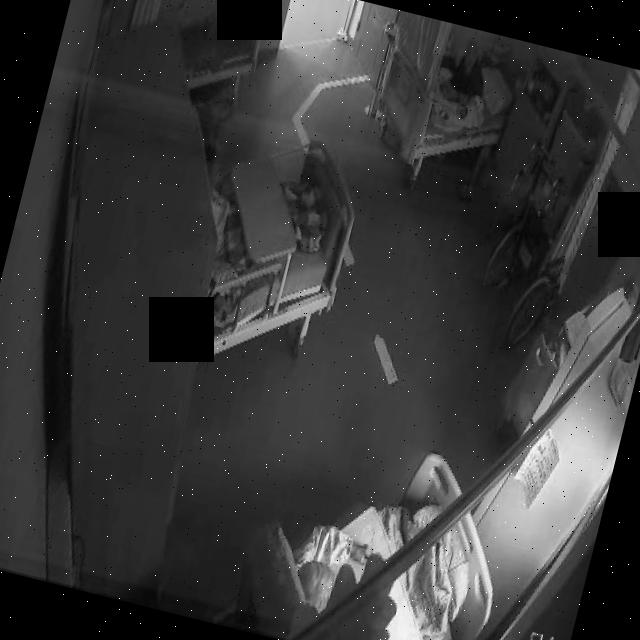bed: (245, 419, 523, 640), (183, 120, 371, 388), (368, 28, 522, 182), (171, 0, 284, 94)
